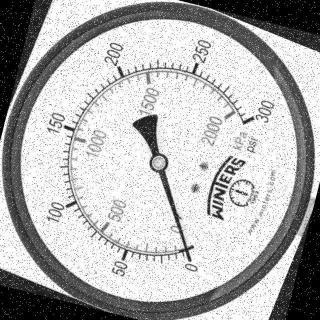gauge: (0, 0, 320, 320), (169, 238, 211, 280), (235, 98, 272, 135), (145, 149, 171, 174), (181, 248, 198, 266)
